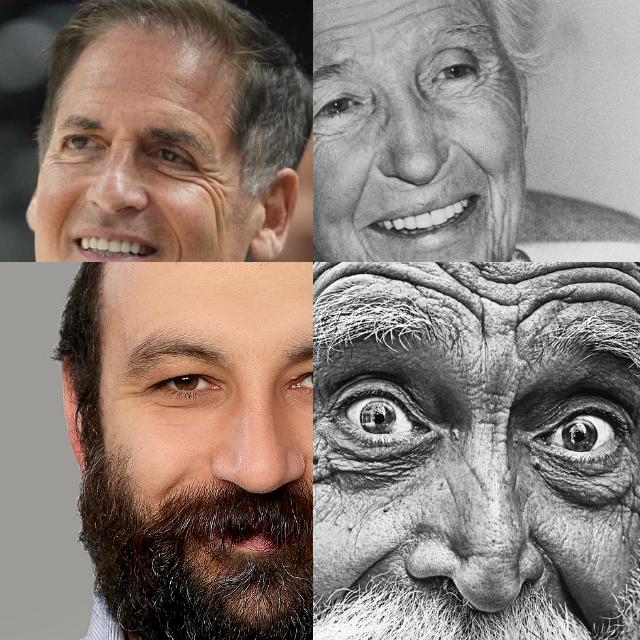bunny_line: (460, 457, 494, 501), (442, 473, 466, 511)
chin: (482, 205, 512, 262)
crows_feet: (313, 422, 336, 485), (478, 58, 504, 98), (198, 164, 224, 202), (127, 383, 149, 402), (313, 122, 323, 153), (45, 150, 61, 168)
forehead: (497, 262, 558, 305), (418, 262, 479, 304), (316, 15, 358, 49), (396, 0, 465, 20), (572, 262, 616, 291), (155, 94, 205, 118), (355, 262, 408, 279), (622, 262, 640, 307), (313, 262, 347, 281)
frown_line: (474, 389, 512, 439), (472, 314, 501, 358)
gummy_smile: (348, 540, 392, 594), (538, 538, 576, 598), (445, 137, 493, 175), (343, 169, 375, 219), (52, 196, 76, 238), (169, 227, 186, 262)
masseter: (210, 211, 228, 247)
sad_smile: (480, 180, 500, 217), (351, 225, 371, 253)
